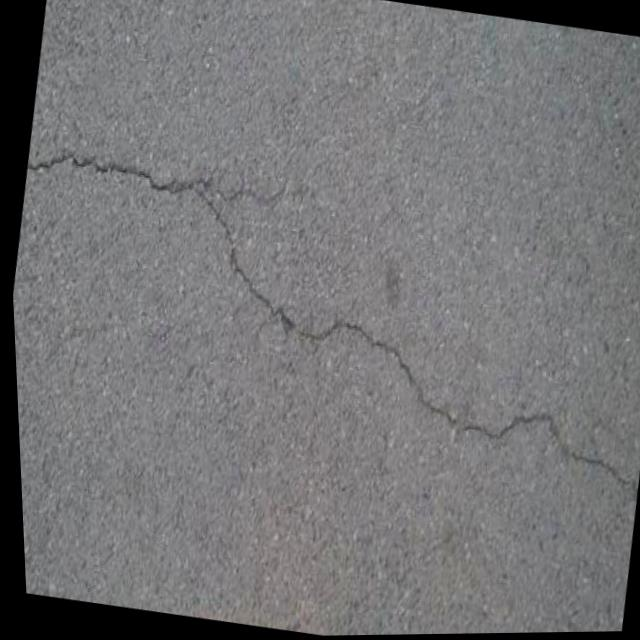Crack: (5, 125, 640, 510)
